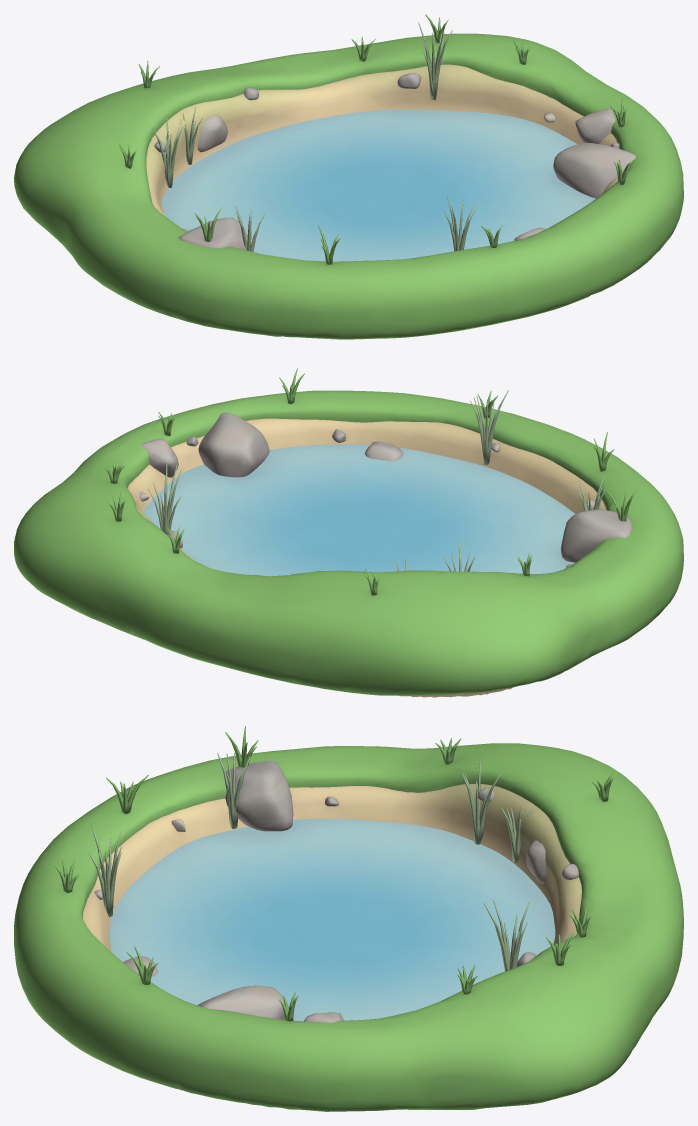
The model's file is grab3d_pond.glb.
The picture shows the model from 3 angles, top to bottom: view 1: azimuth 30°, elevation 25°; view 2: azimuth 150°, elevation 25°; view 3: azimuth 270°, elevation 25°; orthographic projection. The views are drawn at different scales.
Parts seen in each view (by area): view 1: pond_body; view 2: pond_body; view 3: pond_body.
Part boxes in pixels (x1,y1,x2,y2): pond_body: (14,14,683,339); pond_body: (14,368,683,697); pond_body: (14,726,683,1111).
Bounding box in the file's own units: 4.19 × 0.8478 × 3.74.
1 material, 1 textured.
